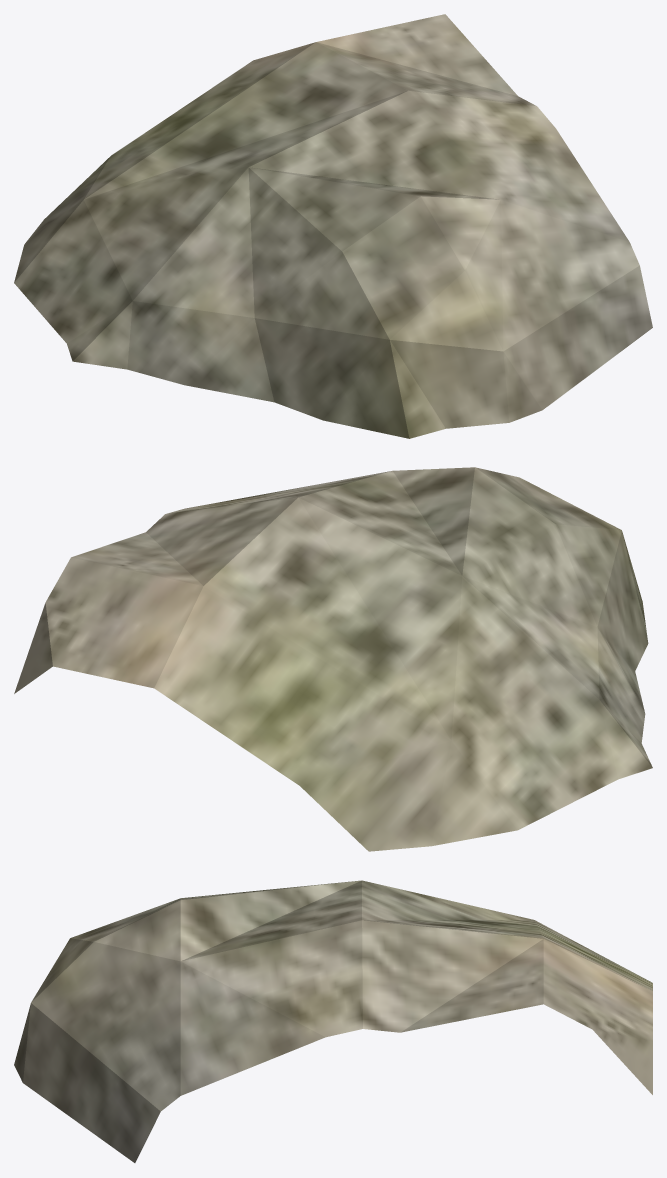
The picture shows the model from 3 angles, top to bottom: view 1: azimuth 30°, elevation 25°; view 2: azimuth 150°, elevation 25°; view 3: azimuth 270°, elevation 25°; orthographic projection. The views are drawn at different scales.
Bounding box in the file's own units: 1.82 × 0.6813 × 2.18.
1 material, 1 textured.
